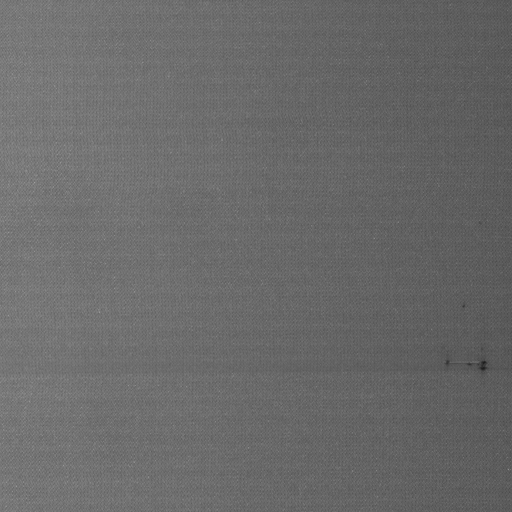defect: (440, 350, 488, 369)
